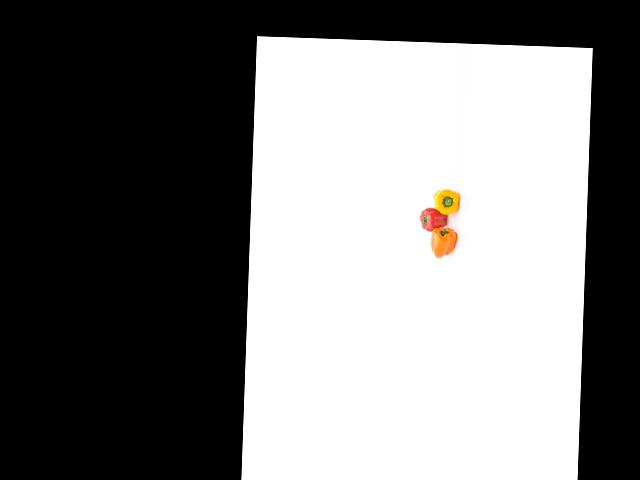bell_pepper: (431, 187, 460, 218)
